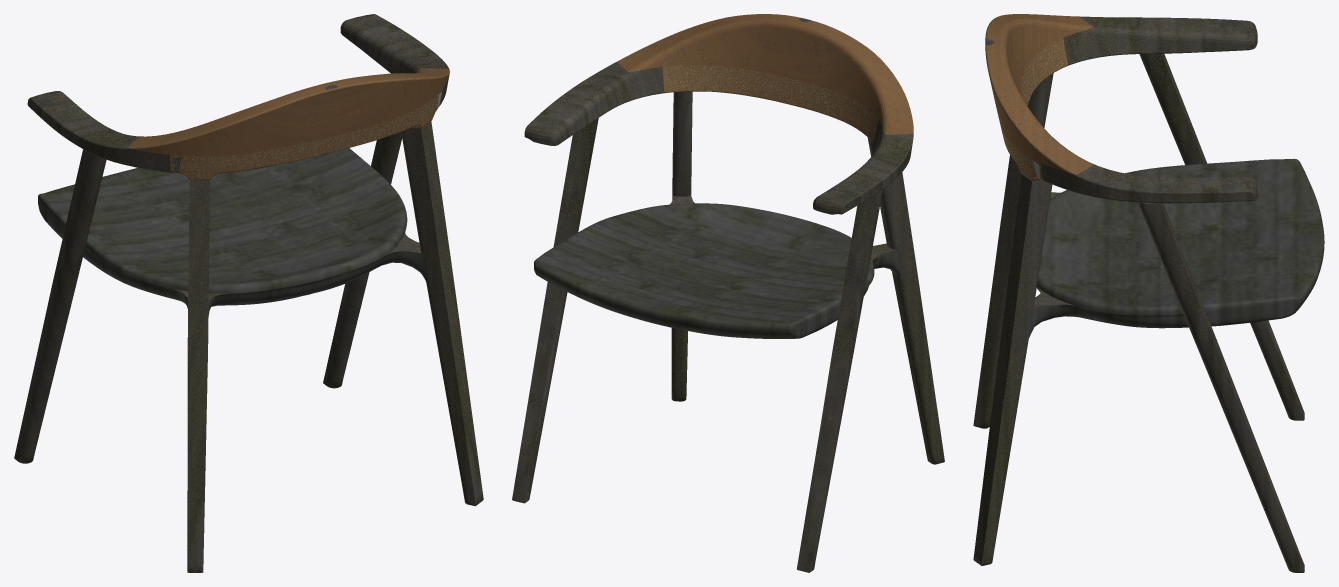
The picture shows the model from 3 angles, left to right: view 1: azimuth 30°, elevation 25°; view 2: azimuth 150°, elevation 25°; view 3: azimuth 270°, elevation 25°; orthographic projection. The views are drawn at different scales.
Visible parts, largest first — view 1: mesh6_mesh6-geometry, mesh5_mesh5-geometry, mesh2_mesh2-geometry, mesh4_mesh4-geometry, mesh3_mesh3-geometry, mesh1_mesh1-geometry; view 2: mesh6_mesh6-geometry, mesh5_mesh5-geometry, mesh3_mesh3-geometry, mesh1_mesh1-geometry, mesh4_mesh4-geometry, mesh2_mesh2-geometry; view 3: mesh6_mesh6-geometry, mesh5_mesh5-geometry, mesh2_mesh2-geometry, mesh1_mesh1-geometry, mesh4_mesh4-geometry, mesh3_mesh3-geometry.
Part boxes in pixels (x1,y1,x2,y2): mesh6_mesh6-geometry: (38, 148, 429, 337); mesh5_mesh5-geometry: (27, 14, 449, 179); mesh2_mesh2-geometry: (401, 121, 483, 506); mesh4_mesh4-geometry: (187, 180, 209, 572); mesh3_mesh3-geometry: (14, 149, 106, 463); mesh1_mesh1-geometry: (323, 132, 402, 388); mesh6_mesh6-geometry: (534, 194, 904, 338); mesh5_mesh5-geometry: (524, 14, 913, 214); mesh3_mesh3-geometry: (797, 189, 882, 572); mesh1_mesh1-geometry: (512, 118, 598, 503); mesh4_mesh4-geometry: (867, 137, 944, 464); mesh2_mesh2-geometry: (671, 91, 692, 401); mesh6_mesh6-geometry: (1015, 158, 1324, 339); mesh5_mesh5-geometry: (985, 14, 1257, 203); mesh2_mesh2-geometry: (973, 174, 1052, 565); mesh1_mesh1-geometry: (1138, 202, 1304, 572); mesh4_mesh4-geometry: (973, 73, 1053, 428); mesh3_mesh3-geometry: (1139, 53, 1304, 420).
Size of the model in its own units: 0.5618 by 0.6763 by 0.4764.
